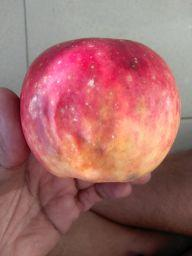Apple Semirotten: (15, 38, 189, 195)
